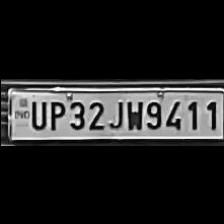1: (182, 97, 200, 129), (201, 97, 219, 129)
2: (84, 97, 106, 128)
3: (65, 97, 84, 129)
4: (162, 97, 182, 129)
9: (142, 96, 160, 128)
J: (105, 96, 123, 128)
P: (44, 96, 64, 130)
U: (27, 97, 46, 129)
W: (122, 96, 142, 128)
